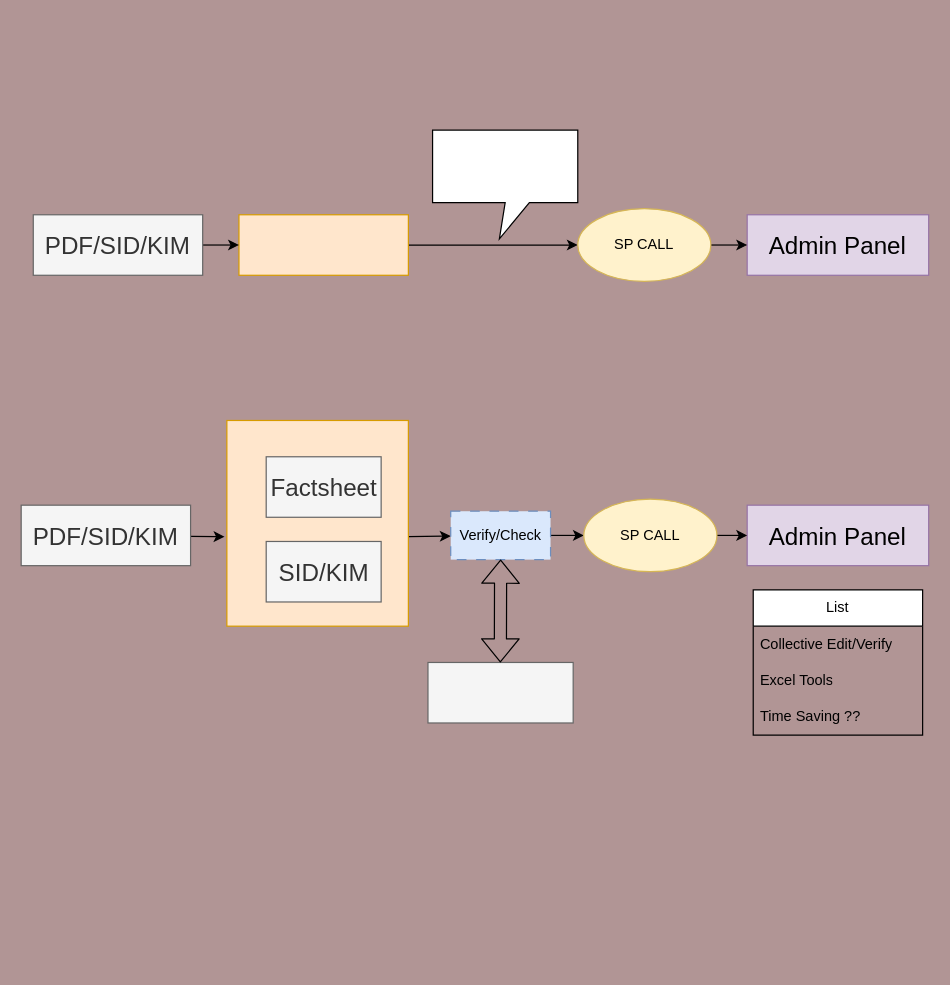
Some shapes in this 950 by 985 pixel diagram are drawn without their labels. Each missing label, with the centre of its shape:
Edit JSN/CSV: the point at 500,692
Finstinct: the point at 323,244
No pause, Immediate update: the point at 504,184
